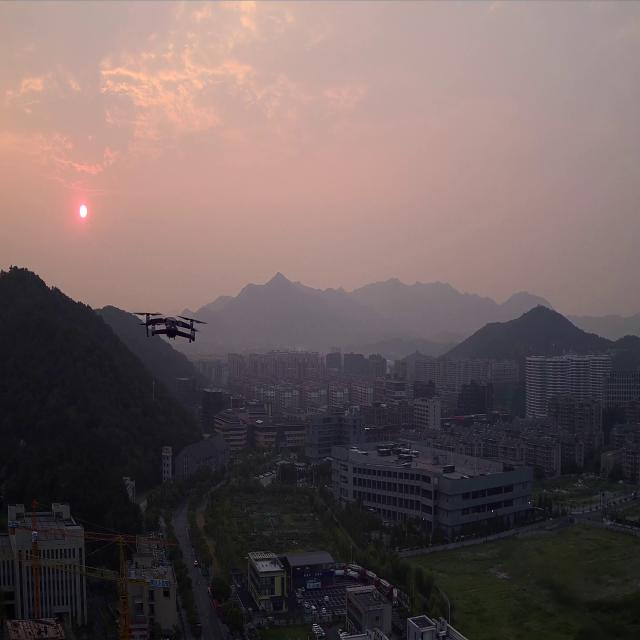UAV: (133, 311, 208, 344)
